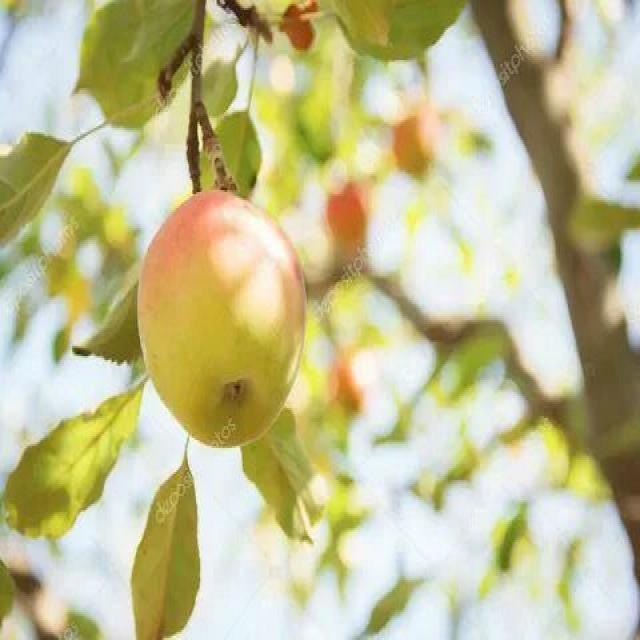Fresh Apple: (128, 203, 300, 422)
